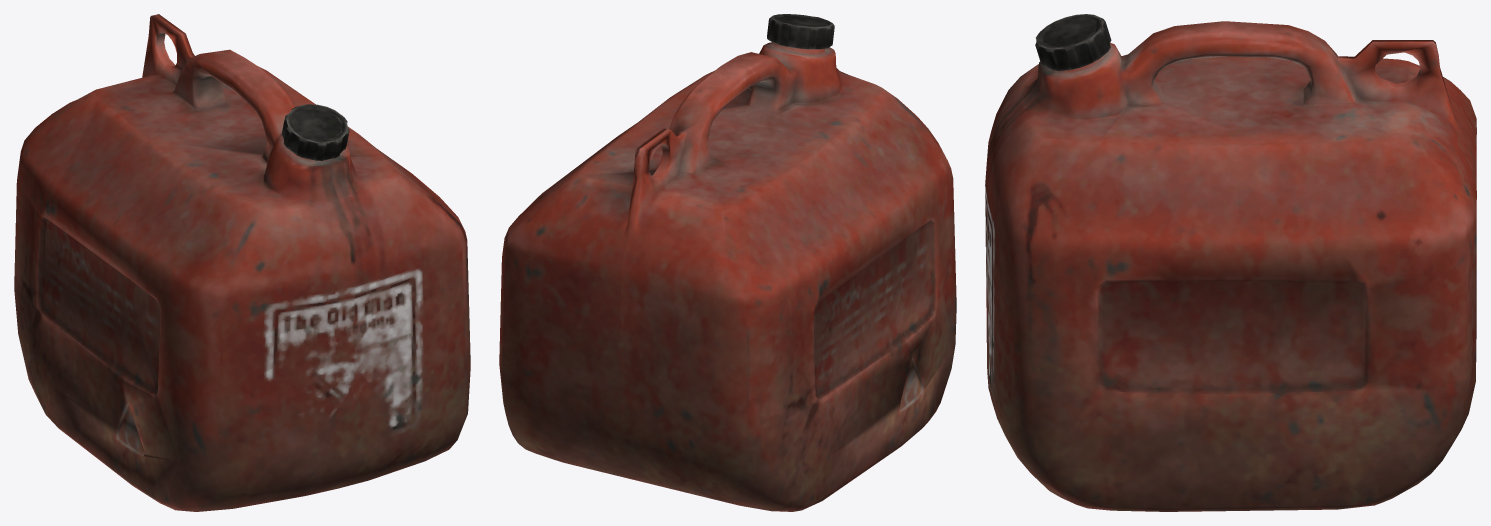
Rendered from plastic_jerrycan.glb.
The picture shows the model from 3 angles, left to right: view 1: azimuth 30°, elevation 25°; view 2: azimuth 150°, elevation 25°; view 3: azimuth 270°, elevation 25°; orthographic projection. The views are drawn at different scales.
Parts seen in each view (by area): view 1: plastic_jerrycan; view 2: plastic_jerrycan; view 3: plastic_jerrycan.
Boxes of the visible parts, box(x1,y1,x2,y2) form: plastic_jerrycan: box(14, 14, 470, 511); plastic_jerrycan: box(499, 14, 956, 511); plastic_jerrycan: box(985, 14, 1476, 511).
Bounding box in the file's own units: 0.268 × 0.3181 × 0.3401.
Materials: 1 (1 with a texture image).
